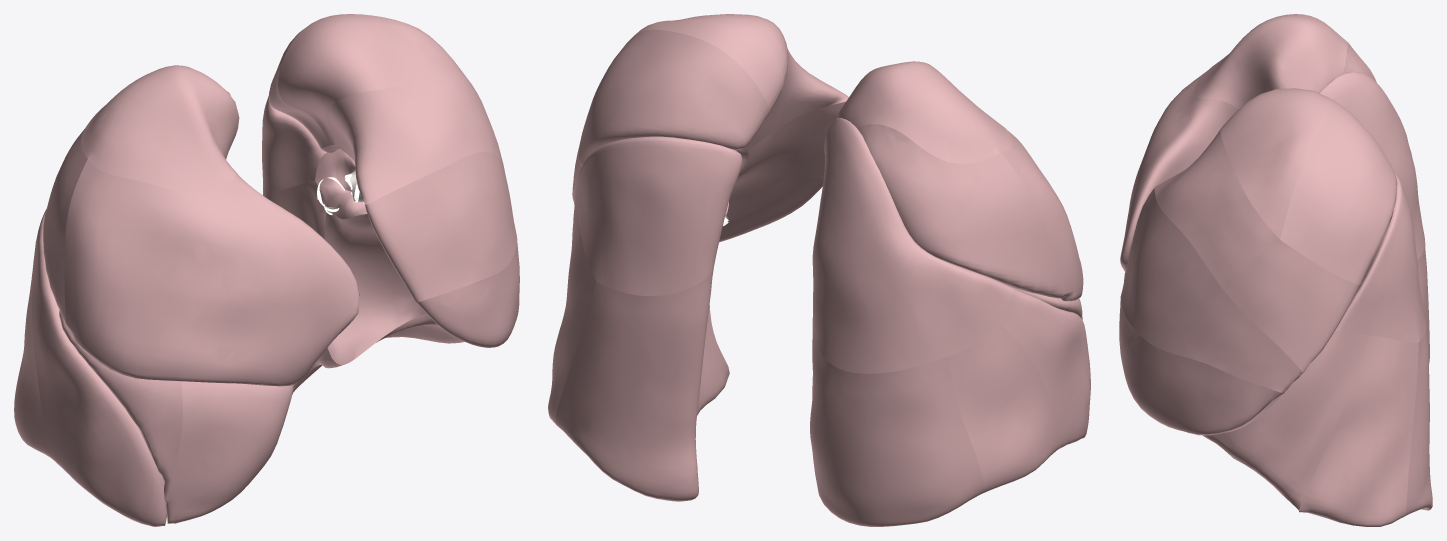
File: lung.glb
3 views of the same model, side by side, from view 1: azimuth 30°, elevation 25°; view 2: azimuth 150°, elevation 25°; view 3: azimuth 270°, elevation 25° (orthographic). The views are drawn at different scales.
Parts seen in each view (by area): view 1: VH_F_hilum_L; view 2: VH_F_hilum_L; view 3: VH_F_hilum_L.
Boxes of the visible parts, x1=… form: VH_F_hilum_L: x1=14, y1=14, x2=519, y2=526; VH_F_hilum_L: x1=548, y1=14, x2=1090, y2=526; VH_F_hilum_L: x1=1119, y1=14, x2=1432, y2=526.
Size of the model in its own units: 0.2511 by 0.2231 by 0.1526.
